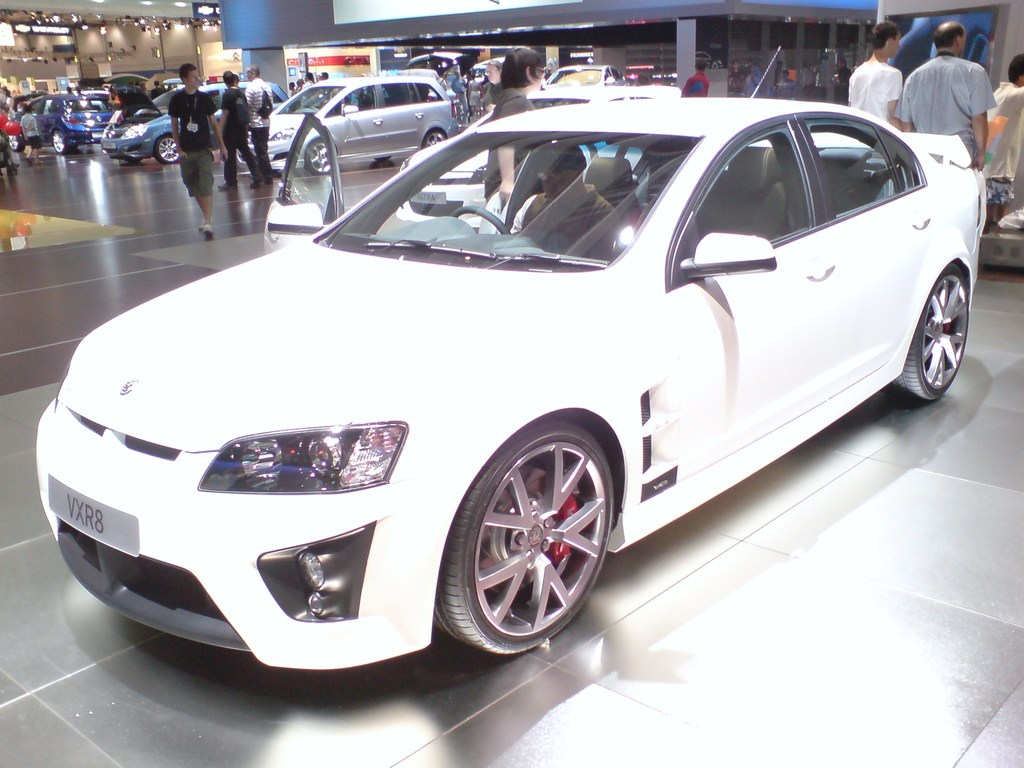Car: (32, 87, 981, 665), (0, 51, 678, 173)
